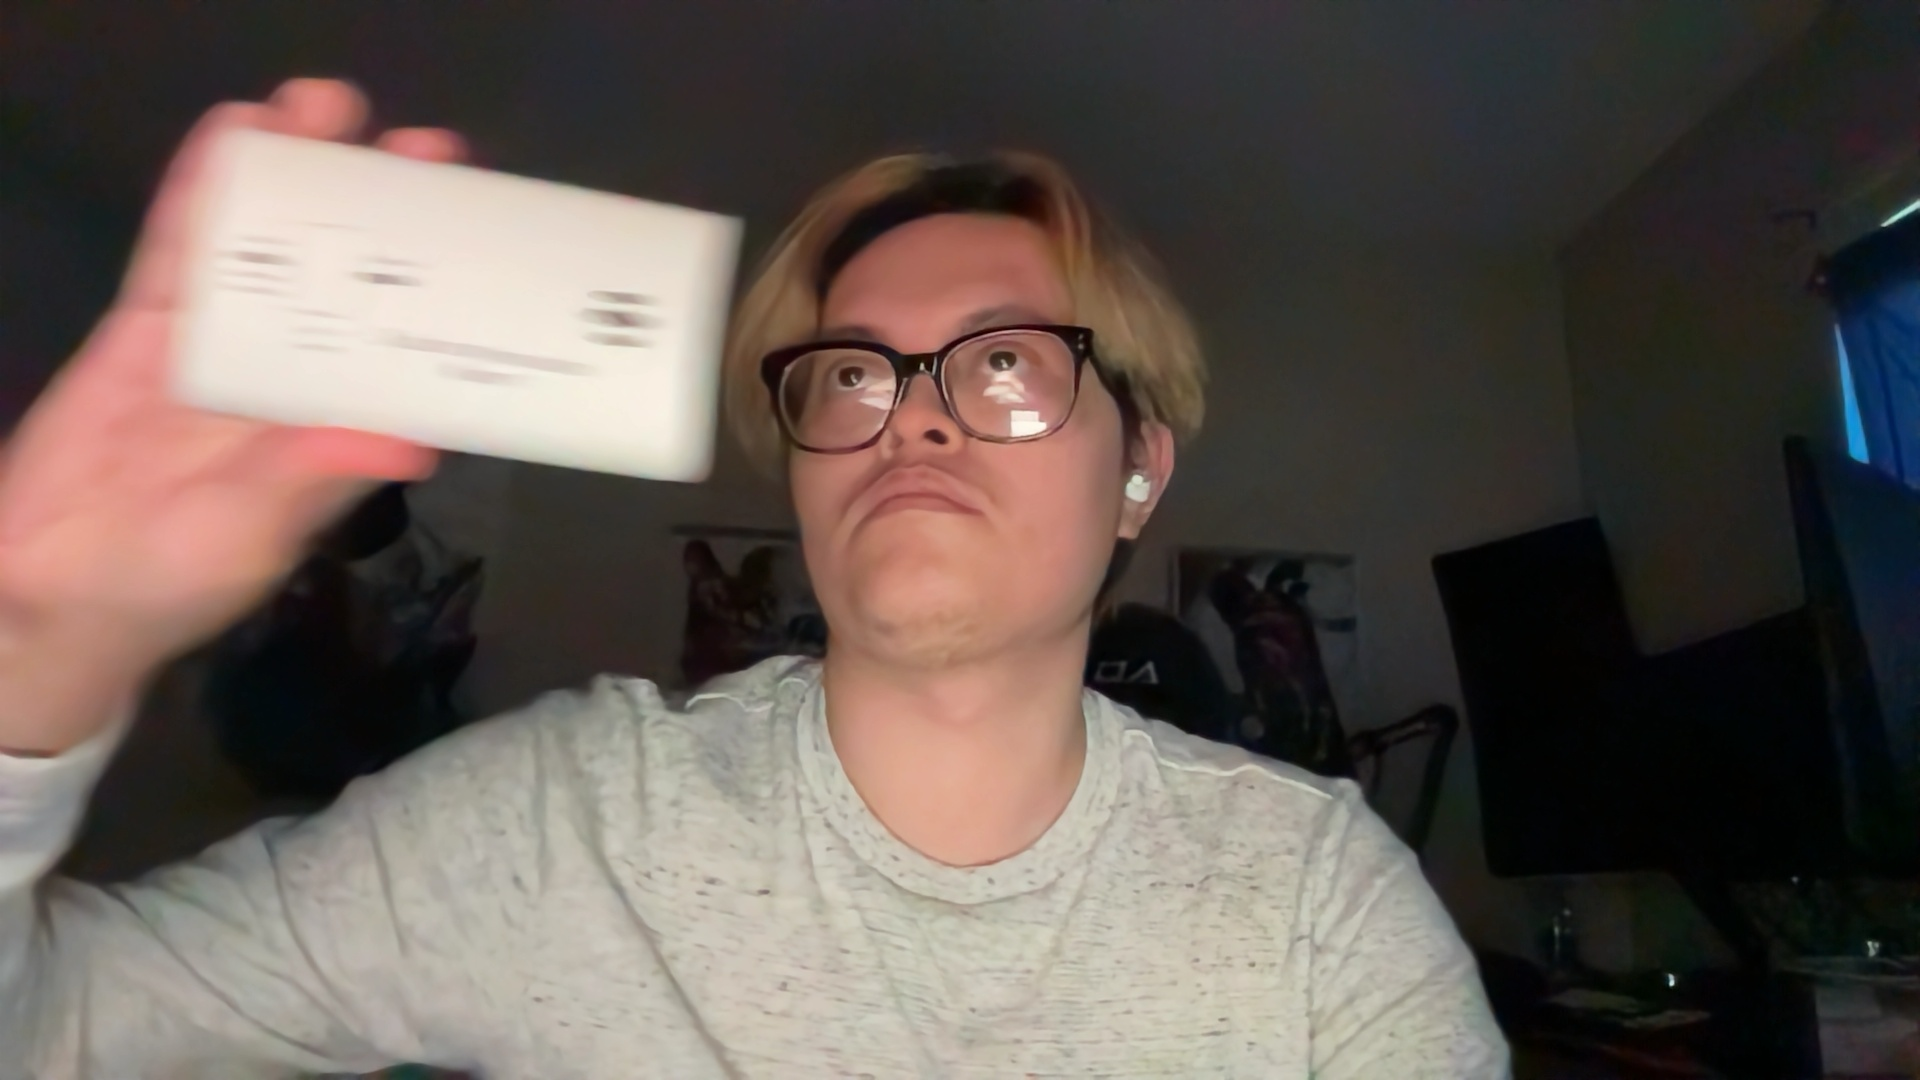carbonmonitor: (142, 128, 748, 492)
